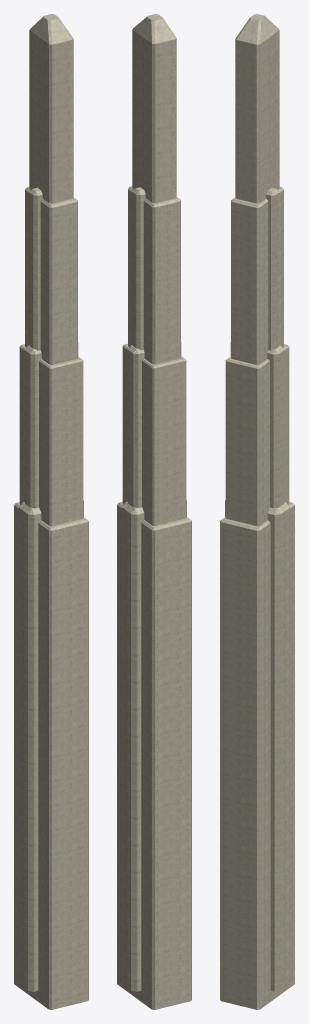
File: BridgePillarTest.FBX
The picture shows the model from 3 angles, left to right: view 1: azimuth 30°, elevation 25°; view 2: azimuth 210°, elevation 25°; view 3: azimuth 330°, elevation 25°; orthographic projection.
Visible parts, largest first — view 1: BridgePillar1; view 2: BridgePillar1; view 3: BridgePillar1.
Boxes of the visible parts, x1,y1,x2,y2 form: BridgePillar1: (14,14,88,1009); BridgePillar1: (117,14,191,1009); BridgePillar1: (220,14,294,1009).
Bounding box in the file's own units: 14 × 233 × 16.
